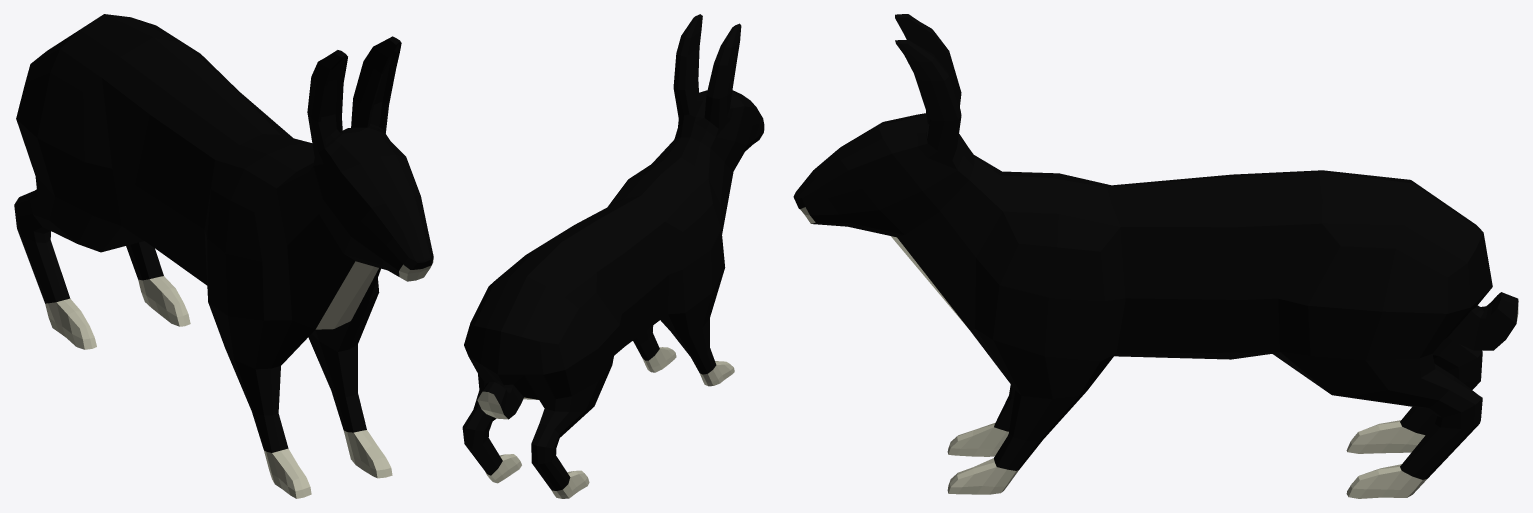
Rendered from 16rabbitFinal.fbx.
The picture shows the model from 3 angles, left to right: view 1: azimuth 30°, elevation 25°; view 2: azimuth 150°, elevation 25°; view 3: azimuth 270°, elevation 25°; orthographic projection. The views are drawn at different scales.
Visible parts, largest first — view 1: 16rabbitFinal; view 2: 16rabbitFinal; view 3: 16rabbitFinal.
Part boxes in pixels (x1=…): 16rabbitFinal: x1=14, y1=14, x2=433, y2=498; 16rabbitFinal: x1=462, y1=14, x2=764, y2=498; 16rabbitFinal: x1=793, y1=14, x2=1518, y2=498.
Bounding box in the file's own units: 14.47 × 38.33 × 56.52.
